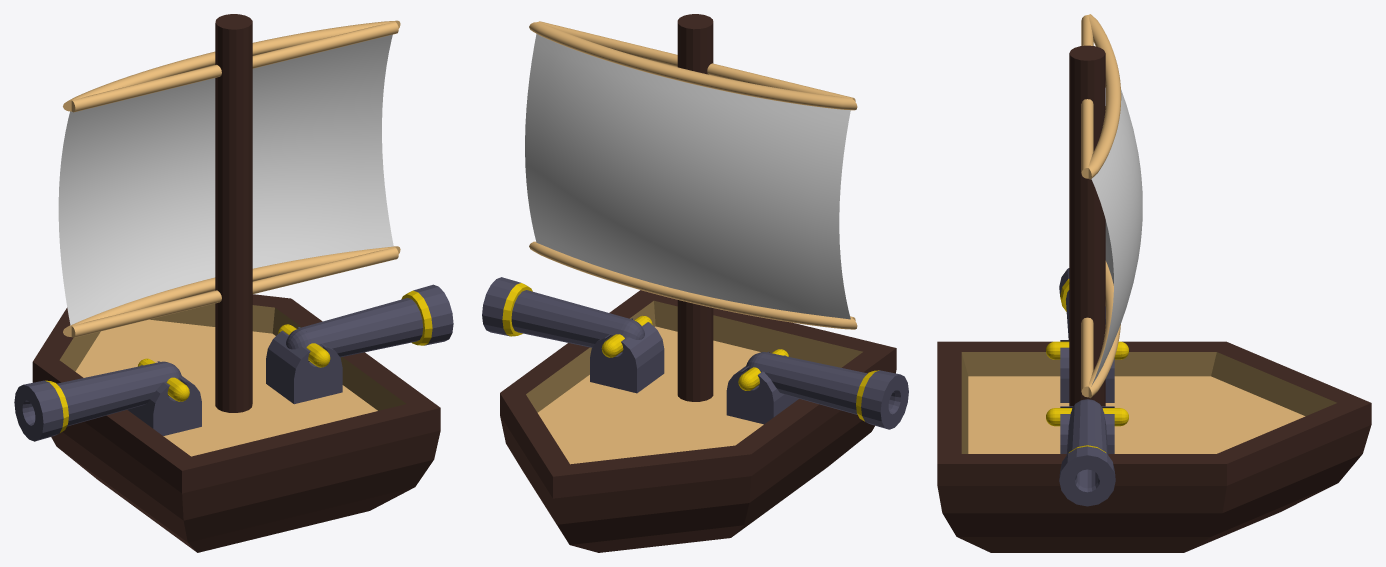
The model's file is lilship.fbx.
3 views of the same model, side by side, from view 1: azimuth 30°, elevation 25°; view 2: azimuth 150°, elevation 25°; view 3: azimuth 270°, elevation 25° (orthographic). The views are drawn at different scales.
Visible parts, largest first — view 1: SurfPatch, Plane, Cylinder, NurbsCurve.001, Cylinder.007, Cylinder.003, NurbsCurve, Cylinder.001, Cylinder.009; view 2: SurfPatch, Plane, NurbsCurve, Cylinder.007, Cylinder.003, Cylinder, Cylinder.001, NurbsCurve.001, Cylinder.009; view 3: Plane, Cylinder, SurfPatch, Cylinder.003, NurbsCurve, NurbsCurve.001, Cylinder.009, Cylinder.001.
Boxes of the visible parts, x1=… form: SurfPatch: x1=58, y1=34, x2=393, y2=325; Plane: x1=32, y1=294, x2=440, y2=552; Cylinder: x1=215, y1=14, x2=252, y2=412; NurbsCurve.001: x1=71, y1=21, x2=398, y2=337; Cylinder.007: x1=14, y1=361, x2=181, y2=441; Cylinder.003: x1=286, y1=284, x2=453, y2=361; NurbsCurve: x1=63, y1=20, x2=400, y2=336; Cylinder.001: x1=266, y1=327, x2=342, y2=404; Cylinder.009: x1=127, y1=361, x2=201, y2=435; SurfPatch: x1=525, y1=34, x2=850, y2=319; Plane: x1=500, y1=290, x2=896, y2=552; NurbsCurve: x1=529, y1=22, x2=857, y2=329; Cylinder.007: x1=746, y1=352, x2=908, y2=429; Cylinder.003: x1=482, y1=277, x2=644, y2=352; Cylinder: x1=677, y1=14, x2=713, y2=401; Cylinder.001: x1=590, y1=318, x2=664, y2=393; NurbsCurve.001: x1=538, y1=21, x2=855, y2=320; Cylinder.009: x1=726, y1=351, x2=798, y2=424; Plane: x1=937, y1=341, x2=1371, y2=552; Cylinder: x1=1069, y1=45, x2=1105, y2=406; SurfPatch: x1=1091, y1=89, x2=1142, y2=386; Cylinder.003: x1=1059, y1=399, x2=1115, y2=506; NurbsCurve: x1=1088, y1=14, x2=1121, y2=398; NurbsCurve.001: x1=1081, y1=15, x2=1093, y2=397; Cylinder.009: x1=1060, y1=340, x2=1114, y2=402; Cylinder.001: x1=1060, y1=406, x2=1114, y2=453.
Bounding box in the file's own units: 476 × 525 × 450.
